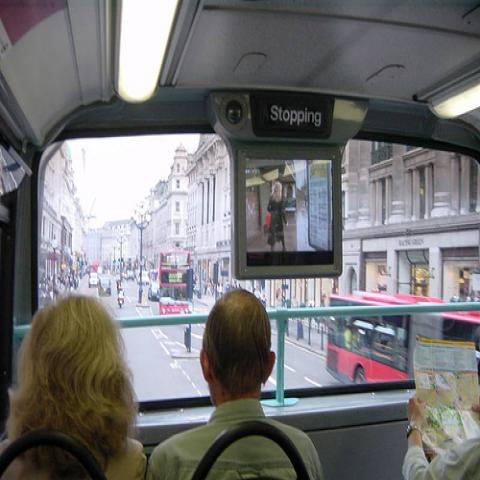bus: (326, 289, 479, 384), (157, 247, 194, 315)
car: (98, 276, 111, 296), (147, 282, 160, 301), (87, 270, 98, 289), (136, 271, 149, 285)
motorcycle: (117, 290, 124, 308)
